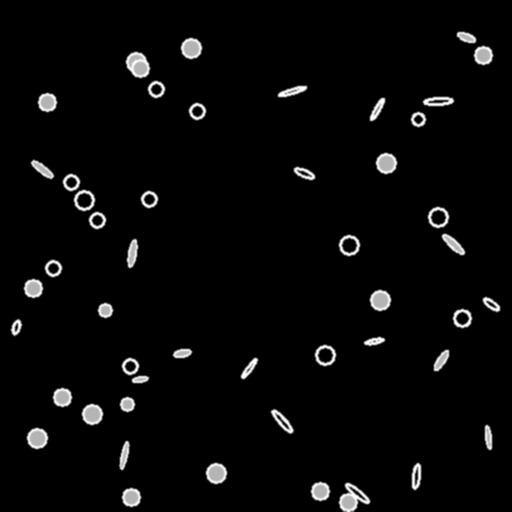pseudomonas: (270, 408, 294, 434), (344, 481, 370, 505), (441, 233, 465, 255), (30, 159, 54, 179), (432, 348, 450, 372), (277, 84, 307, 98), (240, 357, 258, 379), (369, 97, 385, 121), (481, 296, 501, 312), (294, 166, 314, 180), (127, 240, 137, 266), (119, 442, 129, 468), (424, 97, 452, 105), (457, 31, 475, 43), (10, 319, 22, 335), (412, 464, 420, 488), (484, 426, 492, 448), (364, 337, 384, 345), (174, 348, 190, 358), (132, 375, 148, 383)
synechocystis: (316, 346, 334, 364), (340, 236, 358, 254), (127, 53, 145, 71), (371, 291, 389, 309), (429, 208, 447, 226), (377, 154, 395, 172), (75, 191, 93, 209), (83, 405, 101, 423), (182, 39, 200, 57), (207, 464, 225, 482), (28, 429, 46, 447), (39, 94, 55, 110), (54, 389, 70, 405), (454, 310, 470, 326), (475, 47, 491, 63), (340, 494, 356, 510), (25, 280, 41, 296), (123, 489, 139, 505), (132, 60, 148, 76), (312, 483, 328, 499), (142, 192, 156, 206), (149, 82, 163, 96), (64, 175, 78, 189), (190, 104, 204, 118), (46, 261, 60, 275), (90, 213, 104, 227), (123, 359, 137, 373), (99, 304, 111, 316), (412, 113, 424, 125), (121, 398, 133, 410)
